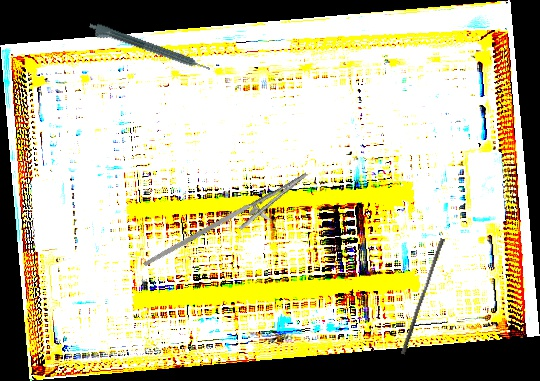Handpiece: (86, 20, 212, 79)
Needle Holder: (142, 153, 317, 297)
Pusher: (400, 236, 446, 357)
